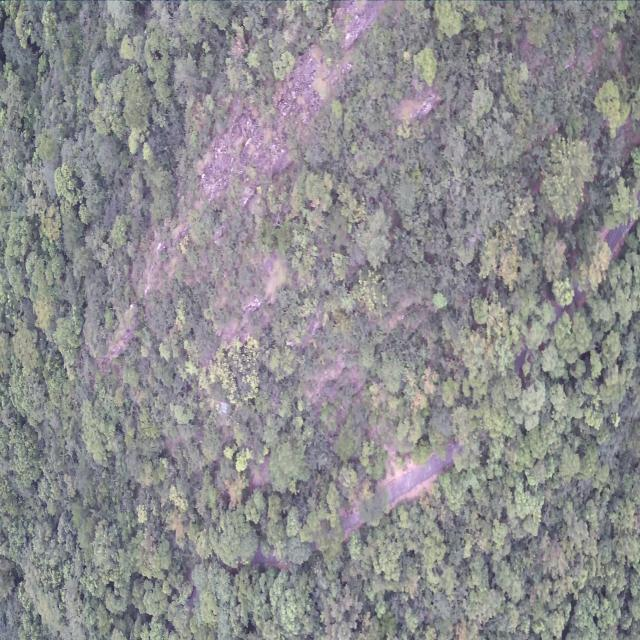UAV: (216, 399, 230, 417)
